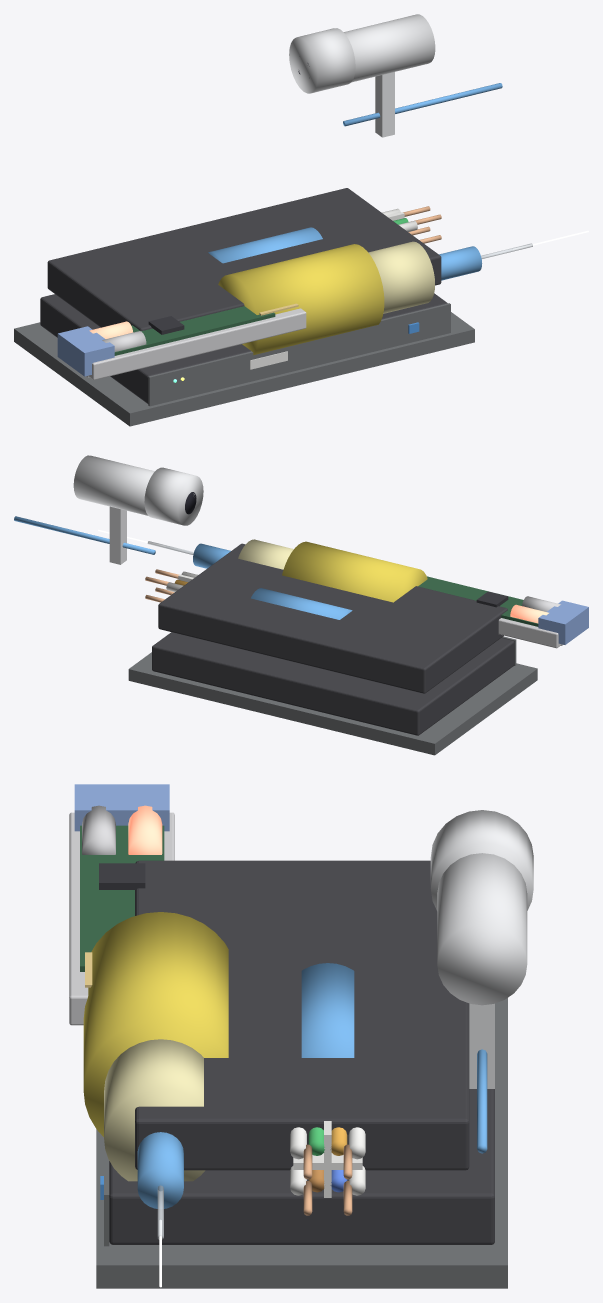
Rendered from wing.glb.
3 renders of one model, top to bottom at view 1: azimuth 30°, elevation 25°; view 2: azimuth 150°, elevation 25°; view 3: azimuth 270°, elevation 25°, orthographic. The views are drawn at different scales.
Visible parts, largest first — view 1: switch_body, fiber_jacket, shelf, gateway_bezel, sfp_housing, bullet_body, gateway_body, bullet_hood, fiber_aramid, sfp_pcb, sfp_lc_port, cat6_jacket (+4 smaller); view 2: switch_body, gateway_body, shelf, fiber_jacket, bullet_body, bullet_hood, sfp_lc_port, cat6_jacket, sfp_pcb, fiber_aramid, sfp_housing, bullet_arm (+3 smaller); view 3: switch_body, gateway_body, shelf, fiber_jacket, bullet_body, fiber_aramid, cat6_jacket, bullet_hood, sfp_pcb, fiber_buffer, sfp_lc_port, sfp_housing (+6 smaller).
Part boxes in pixels (x1,y1,x2,y2): switch_body: (47, 188, 441, 330); fiber_jacket: (218, 244, 384, 355); shelf: (14, 312, 474, 426); gateway_bezel: (148, 303, 450, 406); sfp_housing: (88, 308, 306, 379); bullet_body: (343, 14, 435, 82); gateway_body: (40, 293, 447, 403); bullet_hood: (289, 28, 355, 93); fiber_aramid: (368, 241, 434, 313); sfp_pcb: (114, 306, 275, 355); sfp_lc_port: (57, 326, 114, 376); cat6_jacket: (208, 227, 322, 263); switch_body: (158, 543, 507, 693); gateway_body: (152, 632, 514, 735); shelf: (128, 652, 537, 755); fiber_jacket: (282, 541, 427, 602); bullet_body: (73, 455, 154, 515); bullet_hood: (144, 467, 203, 525); sfp_lc_port: (538, 600, 588, 644); cat6_jacket: (251, 588, 352, 619); sfp_pcb: (418, 576, 538, 626); fiber_aramid: (238, 539, 293, 569); sfp_housing: (498, 618, 561, 648); bullet_arm: (109, 506, 126, 564); switch_body: (135, 860, 469, 1170); gateway_body: (109, 1089, 494, 1244); shelf: (96, 998, 507, 1288); fiber_jacket: (83, 912, 228, 1136); bullet_body: (437, 853, 527, 1005); fiber_aramid: (104, 1039, 205, 1181); cat6_jacket: (301, 963, 354, 1057); bullet_hood: (430, 810, 533, 910); sfp_pcb: (80, 825, 164, 971); fiber_buffer: (137, 1132, 183, 1208); sfp_lc_port: (74, 784, 169, 831); sfp_housing: (69, 812, 174, 1025).
Bounding box in the file's own units: 0.8471 × 0.364 × 0.3611.
